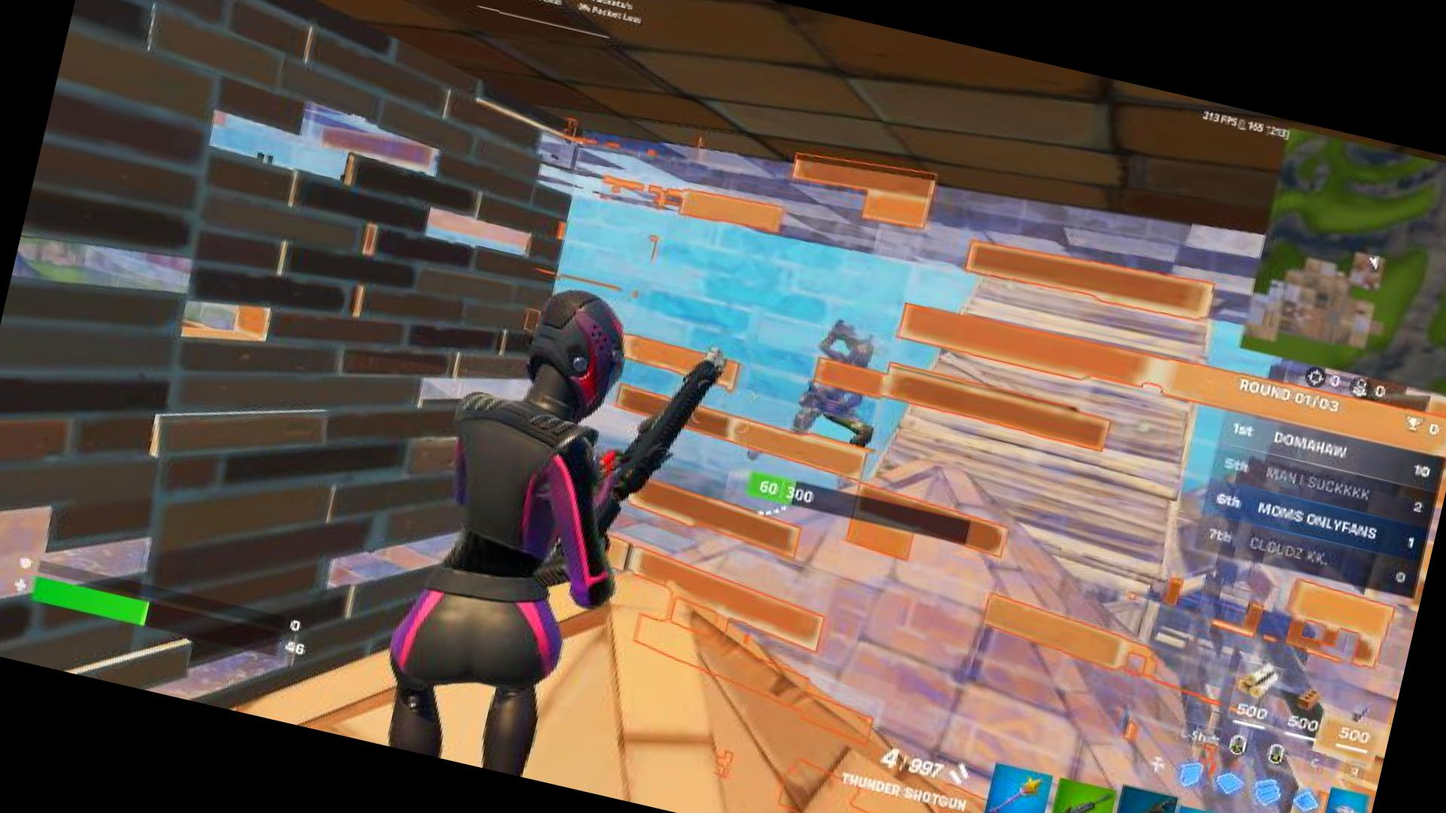player: (305, 245, 701, 793), (770, 318, 898, 493)
